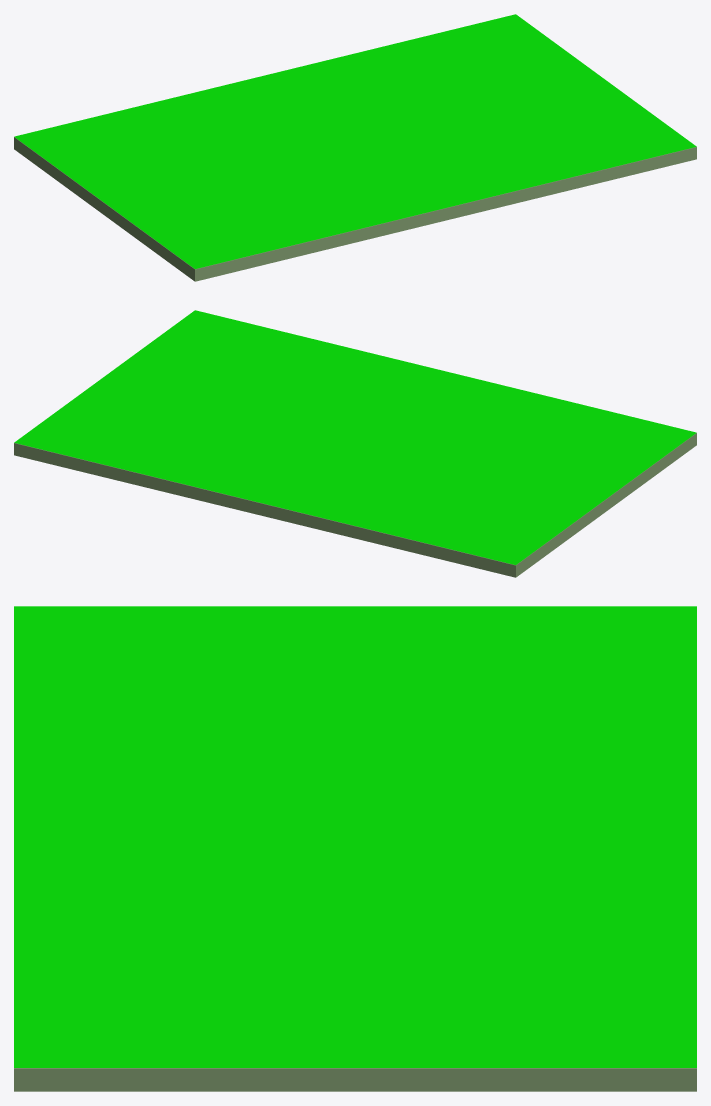
Rendered from floor_TYPE_A_01.fbx.
3 views of the same model, one above another, from view 1: azimuth 30°, elevation 25°; view 2: azimuth 150°, elevation 25°; view 3: azimuth 270°, elevation 25° (orthographic). The views are drawn at different scales.
Visible parts, largest first — view 1: decal_floor_04, decal_floor_00, decal_floor_03, floor_TYPE_A_13, decal_floor_01, decal_floor_05, decal_floor_02, floor_TYPE_A_01; view 2: decal_floor_04, decal_floor_00, floor_TYPE_A_13, decal_floor_02, decal_floor_05, decal_floor_03, decal_floor_01, floor_TYPE_A_01; view 3: decal_floor_00, decal_floor_04, floor_TYPE_A_13, decal_floor_01, decal_floor_03, decal_floor_02, decal_floor_05.
Boxes of the visible parts, x1,y1,x2,y2 form: decal_floor_04: (89,40,634,243); decal_floor_00: (14,14,696,268); decal_floor_03: (212,140,656,259); floor_TYPE_A_13: (14,137,696,281); decal_floor_01: (20,135,233,268); decal_floor_05: (478,14,696,156); decal_floor_02: (76,24,496,125); floor_TYPE_A_01: (14,137,696,269); decal_floor_04: (76,336,614,539); decal_floor_00: (14,310,696,564); floor_TYPE_A_13: (14,433,696,577); decal_floor_02: (66,436,498,555); decal_floor_05: (15,311,233,444); decal_floor_03: (212,320,633,417); decal_floor_01: (477,427,687,564); floor_TYPE_A_01: (14,433,696,565); decal_floor_00: (14,606,696,1067); decal_floor_04: (98,642,612,1031); floor_TYPE_A_13: (14,1068,696,1091); decal_floor_01: (14,606,696,642); decal_floor_03: (14,642,98,1031); decal_floor_02: (612,642,696,1031); decal_floor_05: (14,1032,696,1067).
Size of the model in its own units: 1600 by 38.32 by 1000.
